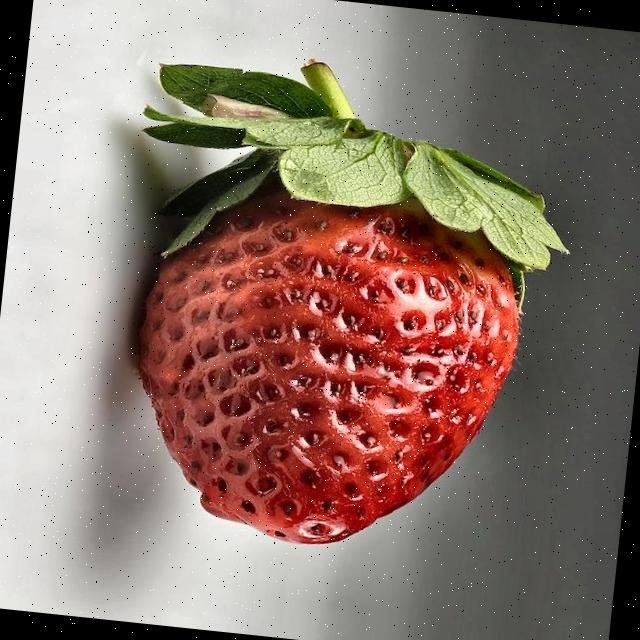strawberry: (137, 62, 565, 544)
